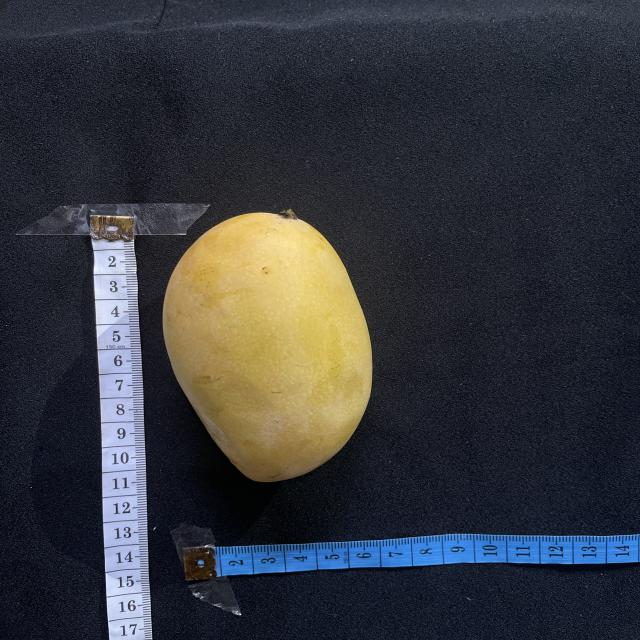Ripe: (163, 210, 372, 482)
